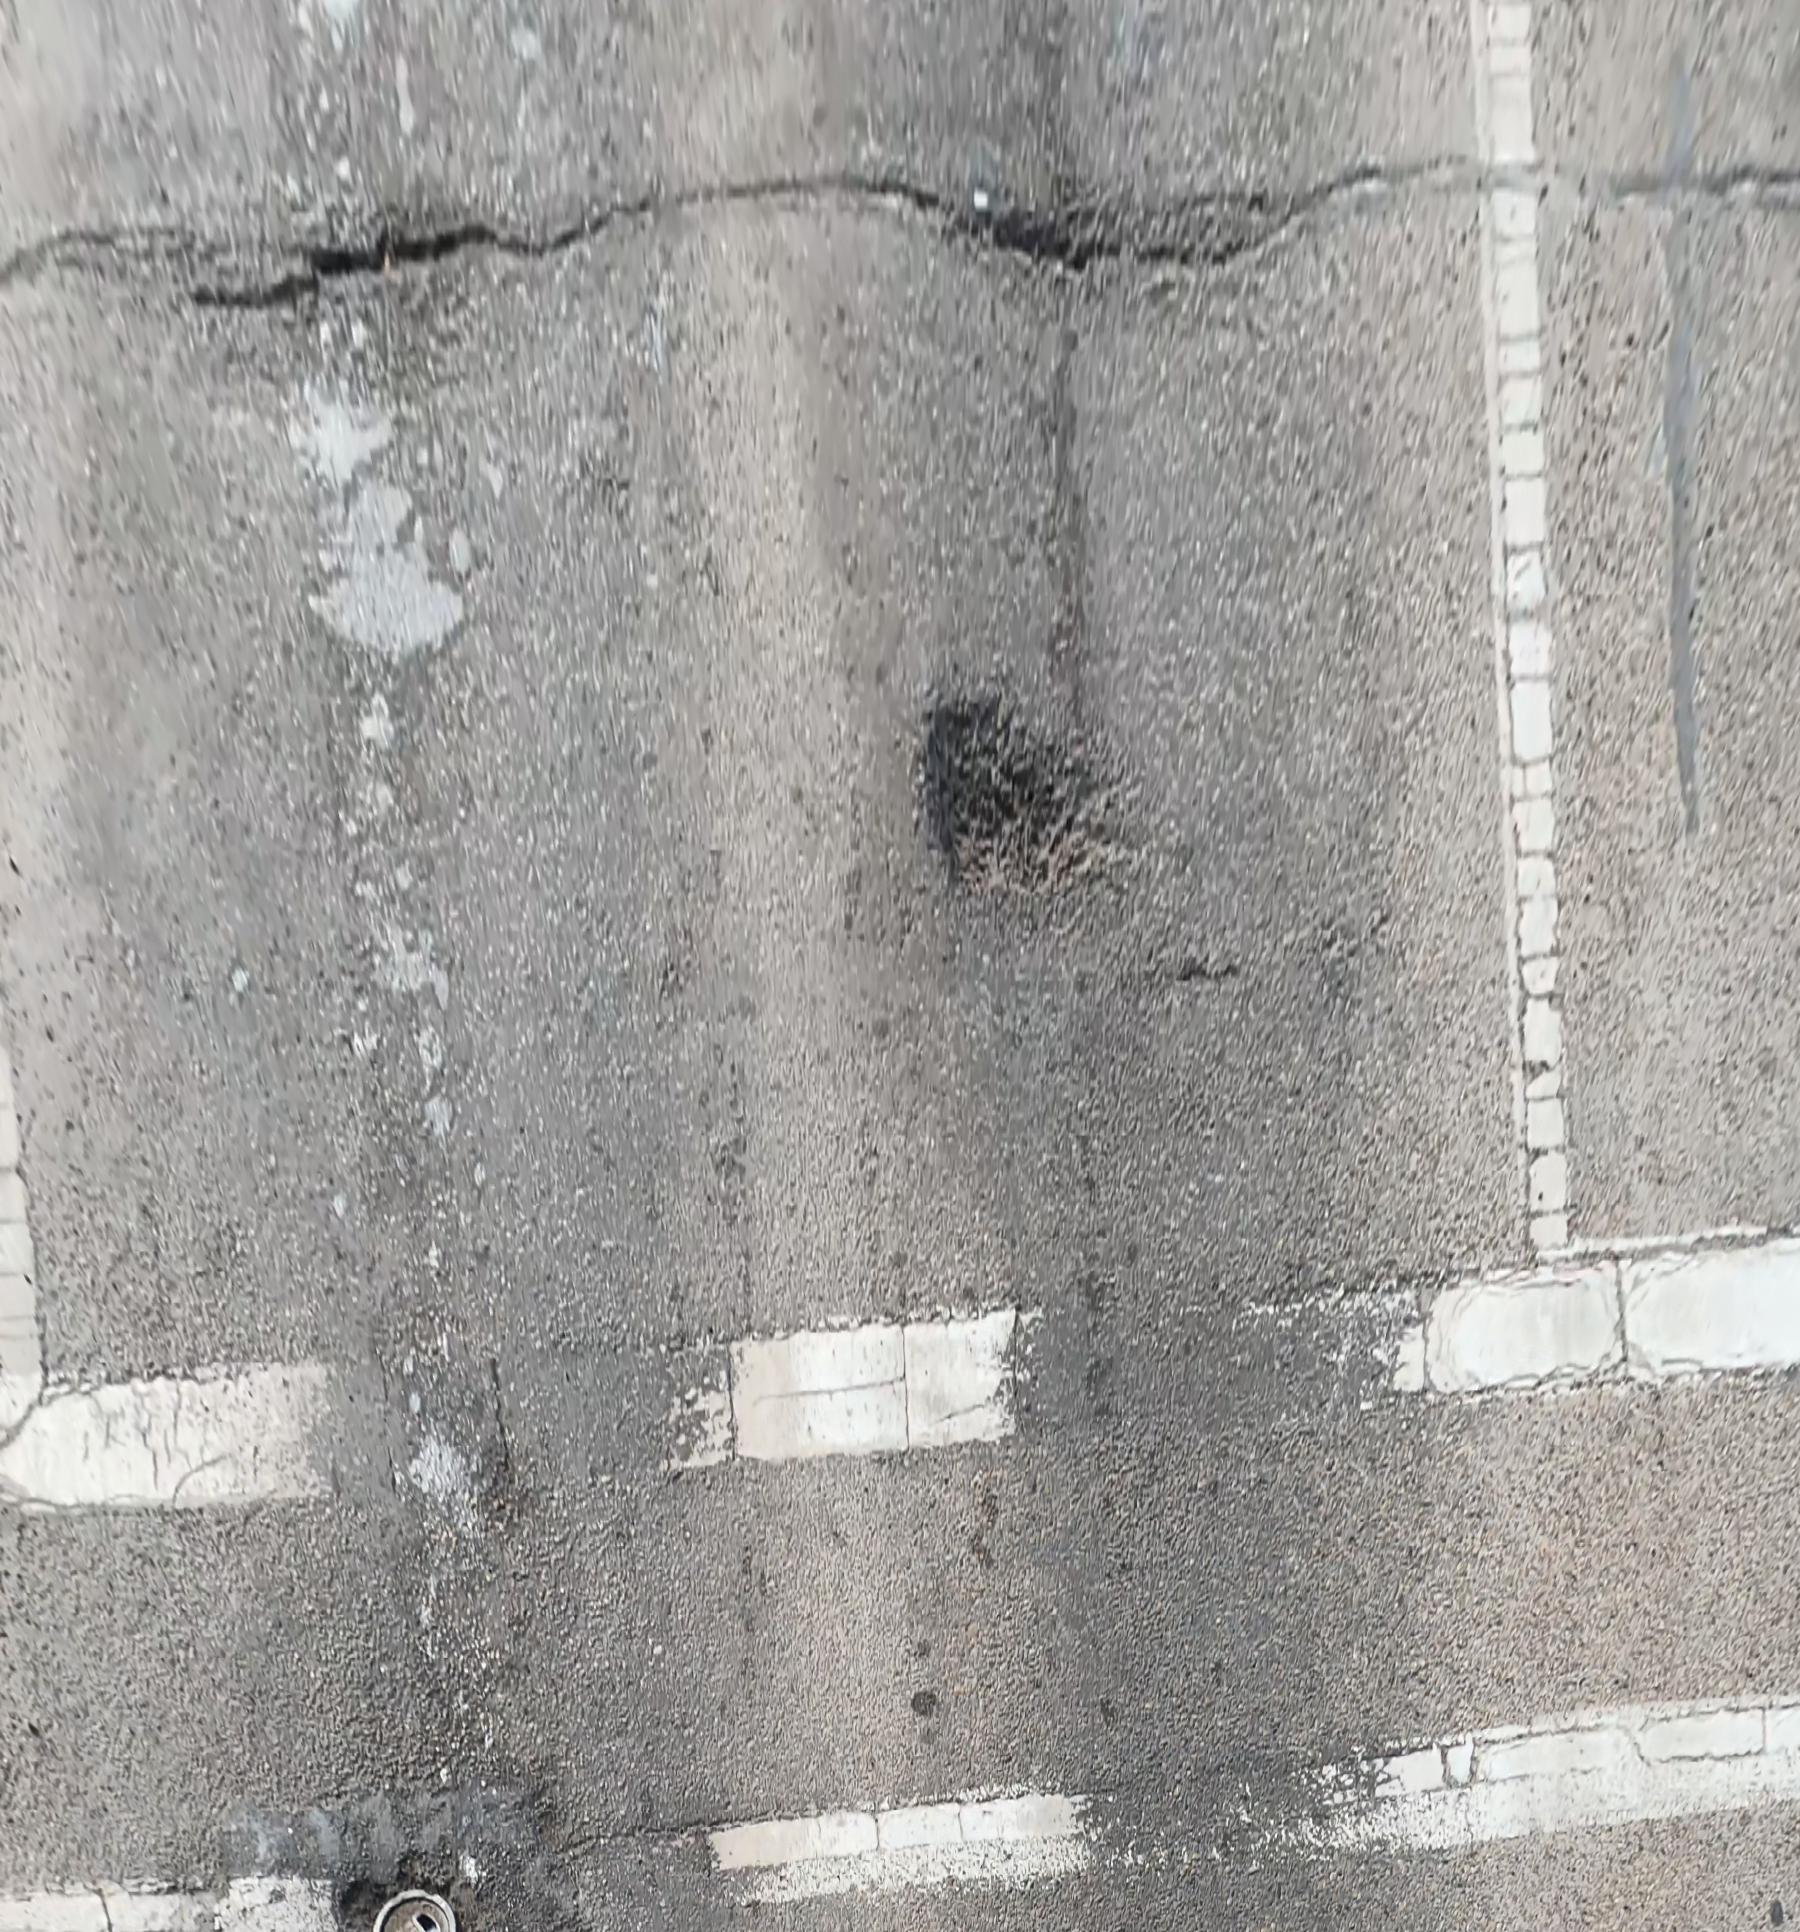pothole: (908, 690, 1155, 902), (325, 1868, 452, 1930), (988, 205, 1074, 261)
